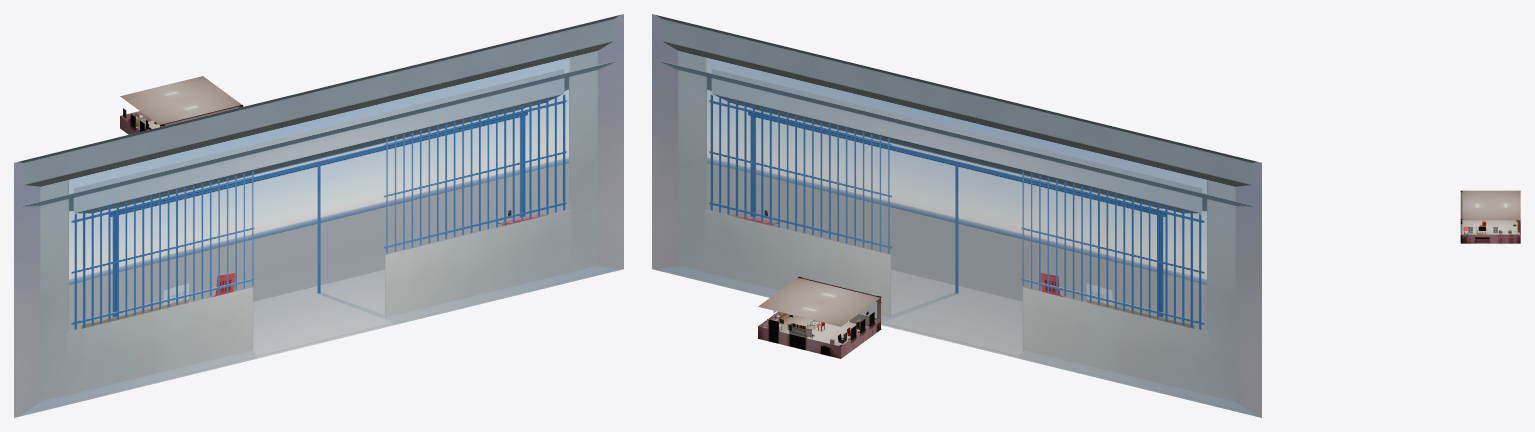
The model's file is int_blessing_salon.glb.
3 views of the same model, side by side, from view 1: azimuth 30°, elevation 25°; view 2: azimuth 150°, elevation 25°; view 3: azimuth 270°, elevation 25° (orthographic). The views are drawn at different scales.
Parts seen in each view (by area): view 1: VIEW_front, ROOM; view 2: VIEW_front, ROOM; view 3: ROOM.
Boxes of the visible parts, bbox=[...] form: VIEW_front: bbox=[14, 14, 623, 417]; ROOM: bbox=[120, 76, 243, 134]; VIEW_front: bbox=[652, 14, 1261, 417]; ROOM: bbox=[758, 276, 881, 358]; ROOM: bbox=[1460, 190, 1520, 243].
Size of the model in its own units: 61.71 by 24.68 by 27.62.
Materials: 3 (2 with a texture image).
